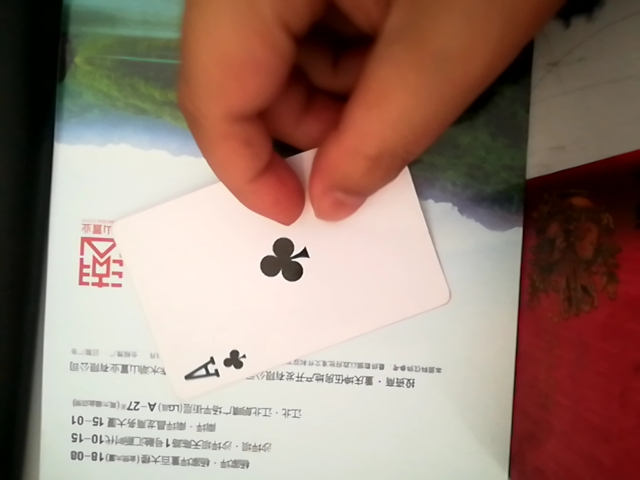mh a: (72, 121, 469, 394)
